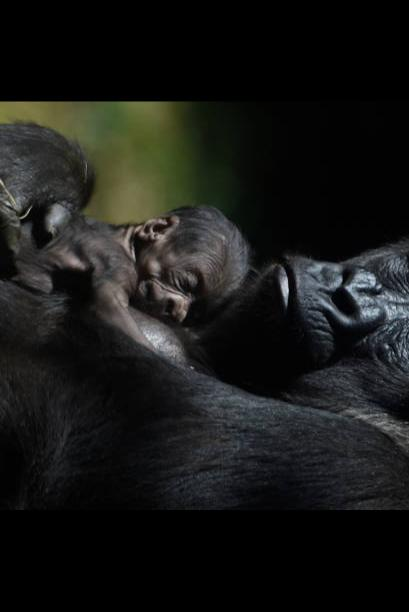gorille_Autres: (54, 171, 409, 510)
